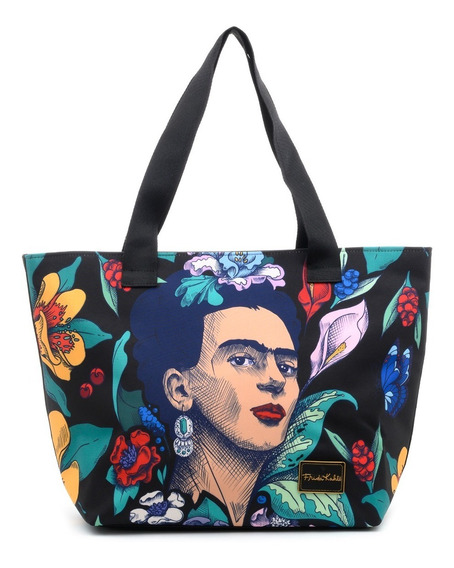cartera: (19, 24, 433, 535)
